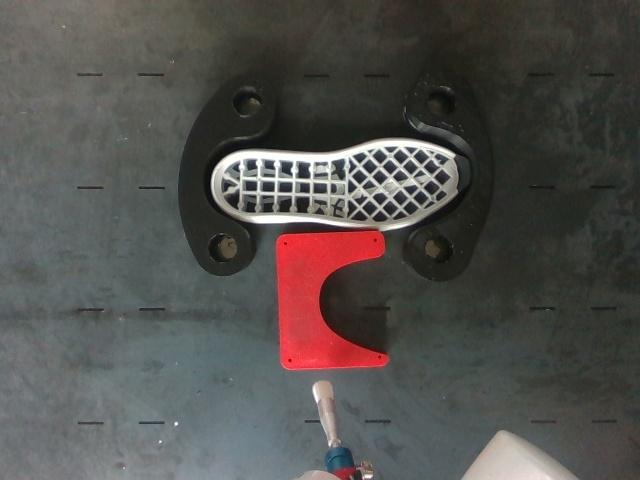shoes: (214, 141, 470, 225)
